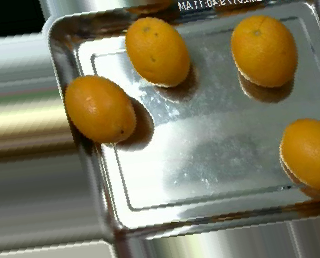Orange: (64, 75, 137, 145), (230, 14, 298, 87), (124, 15, 191, 87)
